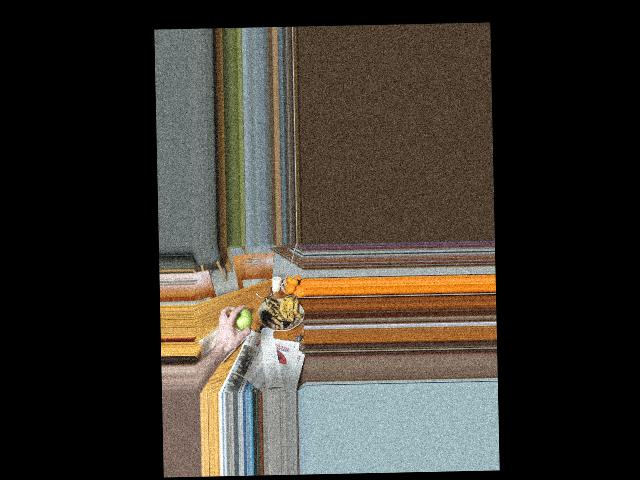apple: (228, 304, 251, 335)
